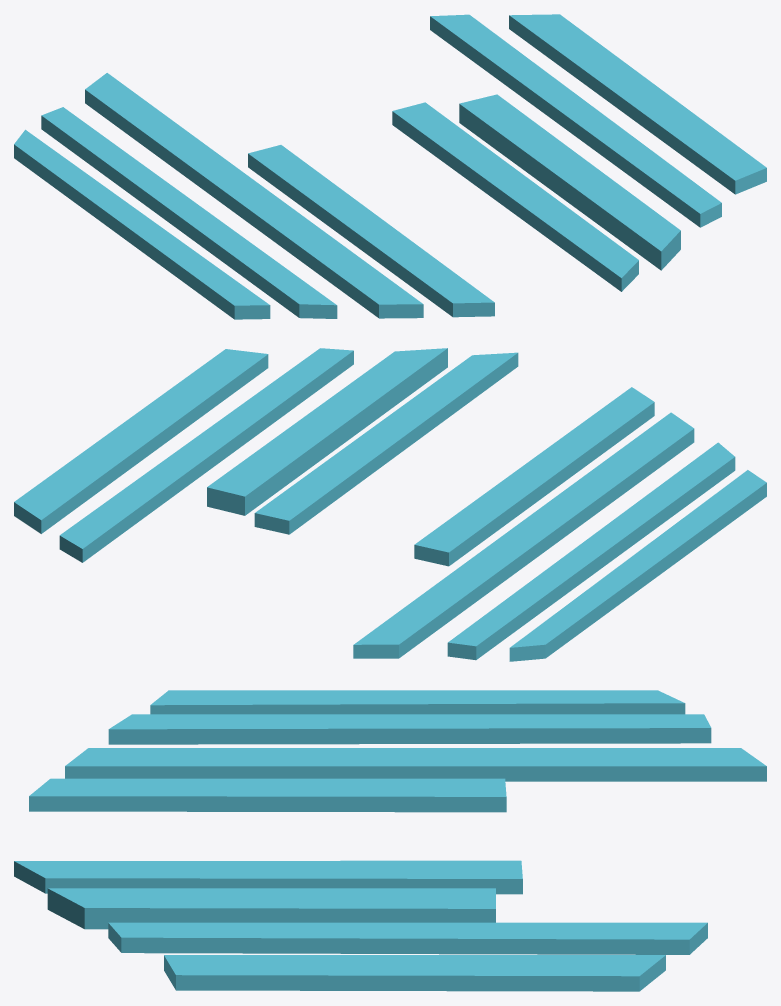
Rendered from water1.fbx.
3 renders of one model, top to bottom at view 1: azimuth 30°, elevation 25°; view 2: azimuth 150°, elevation 25°; view 3: azimuth 270°, elevation 25°, orthographic. The views are drawn at different scales.
Visible parts, largest first — view 1: Cube.010, Cube.013, Cube.008, Cube.006, Cube.012, Cube.024, Cube.023, Cube.011; view 2: Cube.010, Cube.008, Cube.006, Cube.013, Cube.012, Cube.024, Cube.023, Cube.011; view 3: Cube.010, Cube.008, Cube.012, Cube.013, Cube.023, Cube.006, Cube.024, Cube.011.
Boxes of the visible parts, bbox=[...] form: Cube.010: bbox=[85, 73, 423, 318]; Cube.013: bbox=[509, 14, 766, 194]; Cube.008: bbox=[430, 14, 721, 227]; Cube.006: bbox=[459, 94, 680, 270]; Cube.012: bbox=[41, 107, 337, 318]; Cube.024: bbox=[392, 102, 638, 291]; Cube.023: bbox=[248, 145, 494, 317]; Cube.011: bbox=[14, 129, 270, 319]; Cube.010: bbox=[353, 412, 694, 658]; Cube.008: bbox=[59, 348, 353, 562]; Cube.006: bbox=[207, 348, 447, 515]; Cube.013: bbox=[14, 349, 268, 533]; Cube.012: bbox=[447, 442, 735, 660]; Cube.024: bbox=[254, 352, 518, 534]; Cube.023: bbox=[414, 387, 654, 566]; Cube.011: bbox=[509, 470, 766, 661]; Cube.010: bbox=[65, 748, 766, 781]; Cube.008: bbox=[108, 922, 707, 954]; Cube.012: bbox=[108, 714, 711, 744]; Cube.013: bbox=[164, 955, 665, 991]; Cube.023: bbox=[29, 778, 506, 812]; Cube.006: bbox=[47, 888, 495, 929]; Cube.024: bbox=[14, 860, 522, 894]; Cube.011: bbox=[150, 690, 685, 714].
Bounding box in the file's own units: 126 × 4.65 × 137.
